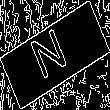N_SE: (32, 24, 78, 86)
